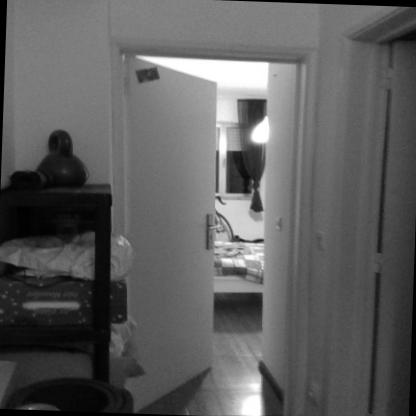semi: (103, 35, 320, 416)
